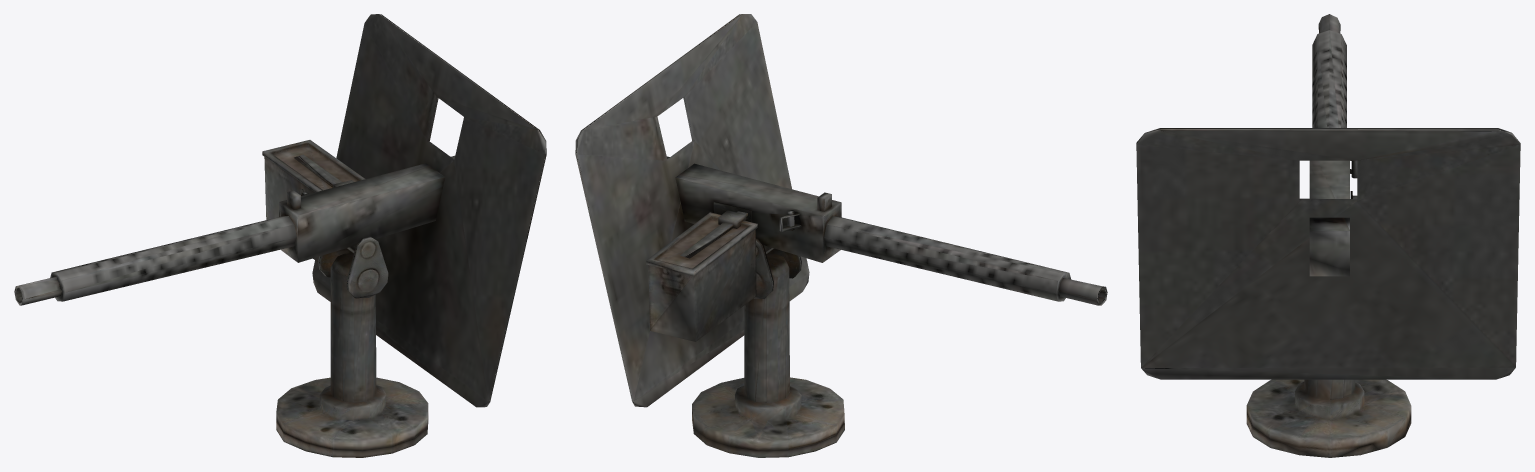
File: car_m_gun.glb
3 views of the same model, side by side, from view 1: azimuth 30°, elevation 25°; view 2: azimuth 150°, elevation 25°; view 3: azimuth 270°, elevation 25° (orthographic). The views are drawn at different scales.
Visible parts, largest first — view 1: geometry_0; view 2: geometry_0; view 3: geometry_0.
Boxes of the visible parts, x1,y1,x2,y2 form: geometry_0: (14,14,546,457); geometry_0: (575,14,1107,457); geometry_0: (1136,14,1520,457).
Bounding box in the file's own units: 0.9561 × 0.6602 × 0.6567.
Materials: 1 (1 with a texture image).
